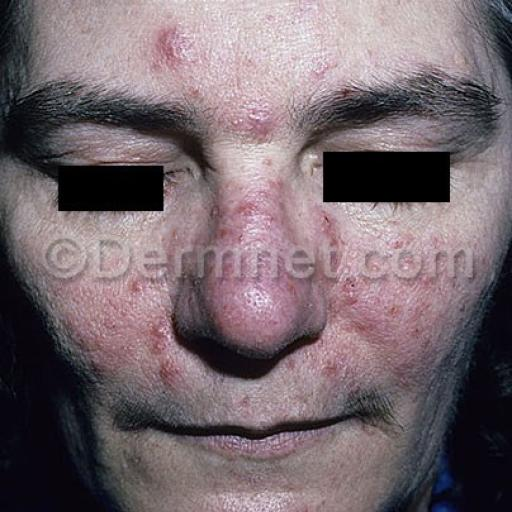Skin_Lesion: (476, 0, 510, 94), (341, 270, 384, 334), (271, 263, 316, 317), (152, 19, 198, 70), (315, 352, 358, 397), (214, 196, 244, 260), (120, 446, 156, 499), (366, 475, 412, 510), (246, 93, 279, 141), (320, 206, 344, 272), (258, 147, 288, 191), (126, 272, 152, 306), (311, 54, 337, 82), (161, 354, 181, 384), (147, 324, 167, 354), (239, 196, 255, 214), (421, 276, 436, 295), (242, 53, 257, 70), (264, 12, 278, 30), (54, 0, 78, 10), (190, 84, 201, 100)
